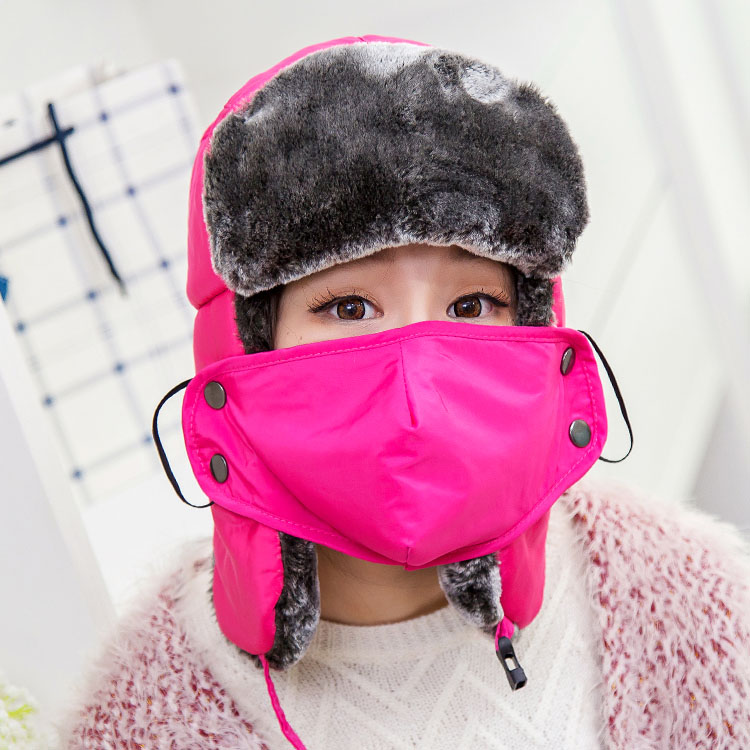face_mask: (271, 196, 531, 521)
